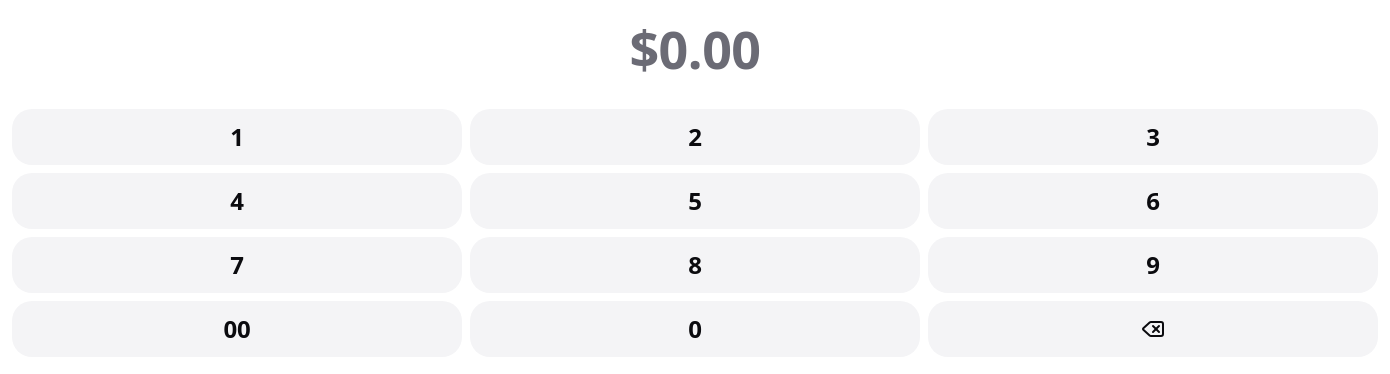
Test: AmountKeypad › digitar pelos botões forma o valor da direita para a esquerda
What coordinates should you click on to do the following:
click the button "1"
I would click on:
 (237, 137)
Its box is x1=12 y1=109 x2=462 y2=165.
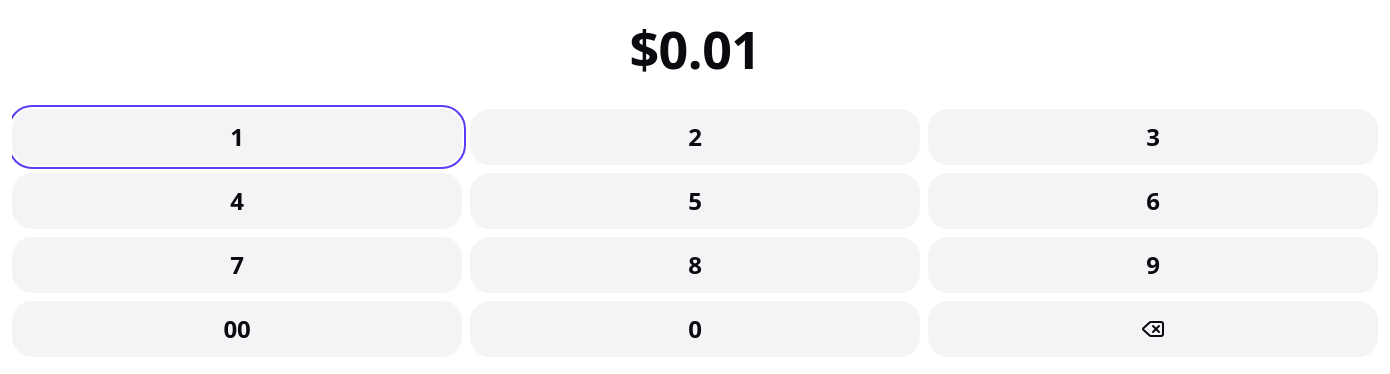
What coordinates should you click on to do the following:
click the button "2"
I would click on:
 (695, 137)
Its box is x1=470 y1=109 x2=920 y2=165.
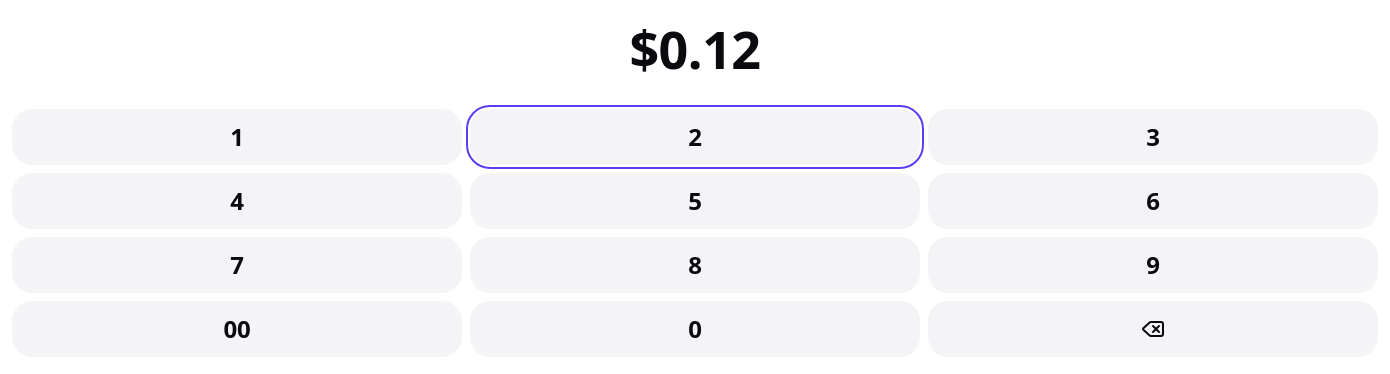
What coordinates should you click on to do the following:
click the button "3"
I would click on:
 (1153, 137)
Its box is x1=928 y1=109 x2=1378 y2=165.
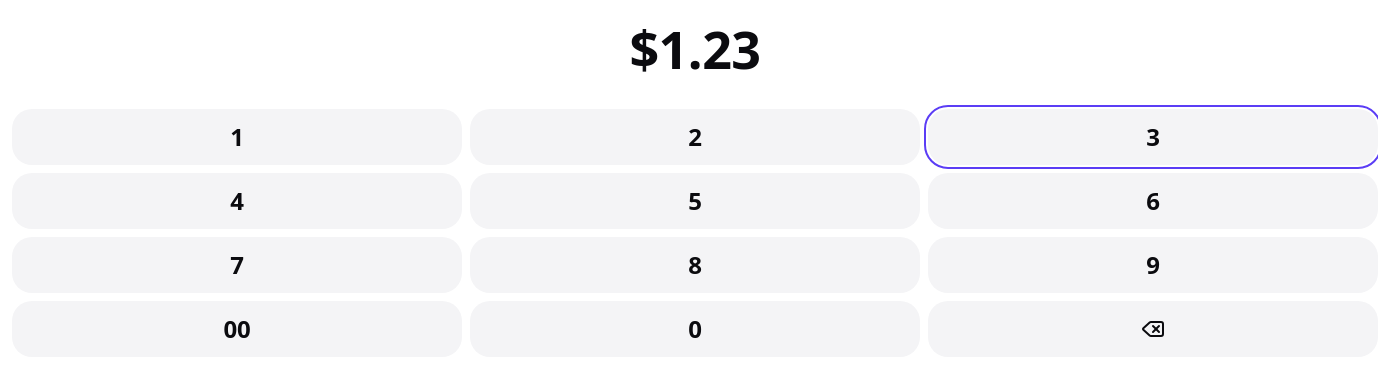
Now the field named "Amount" reads "$1.23", box x1=629 y1=13 x2=761 y2=84
